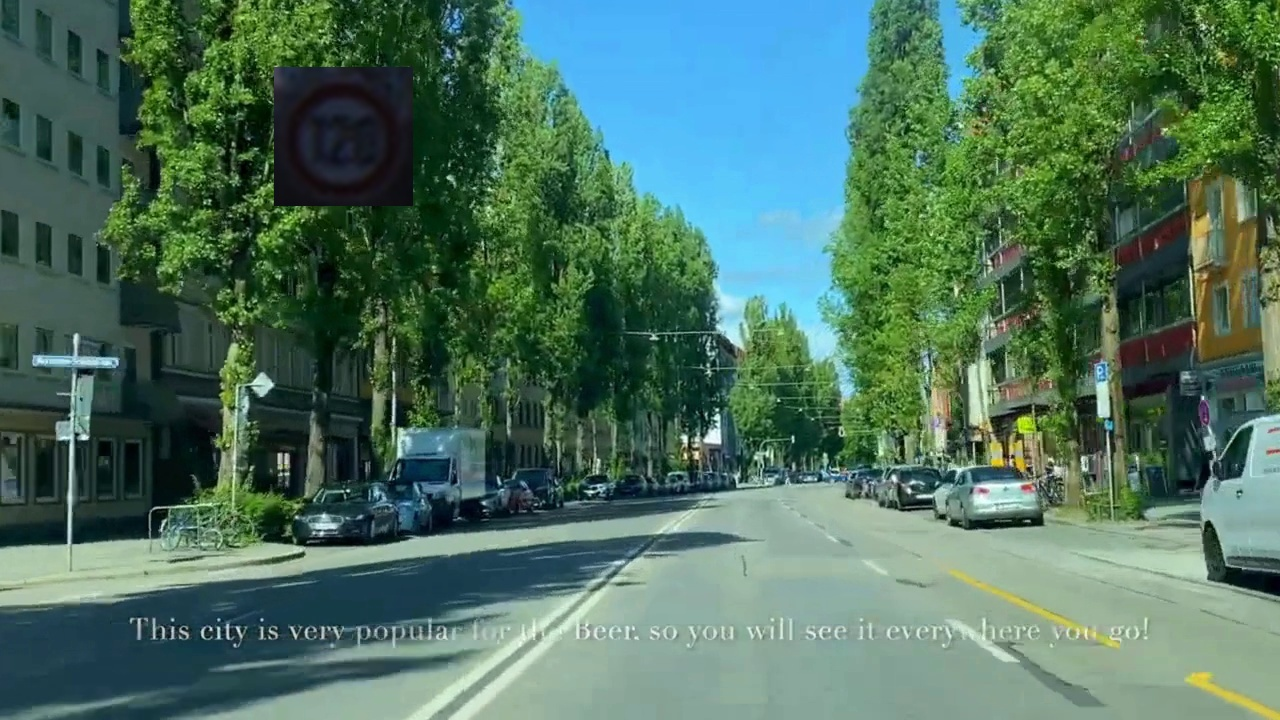Speed 120: (274, 67, 413, 206)
